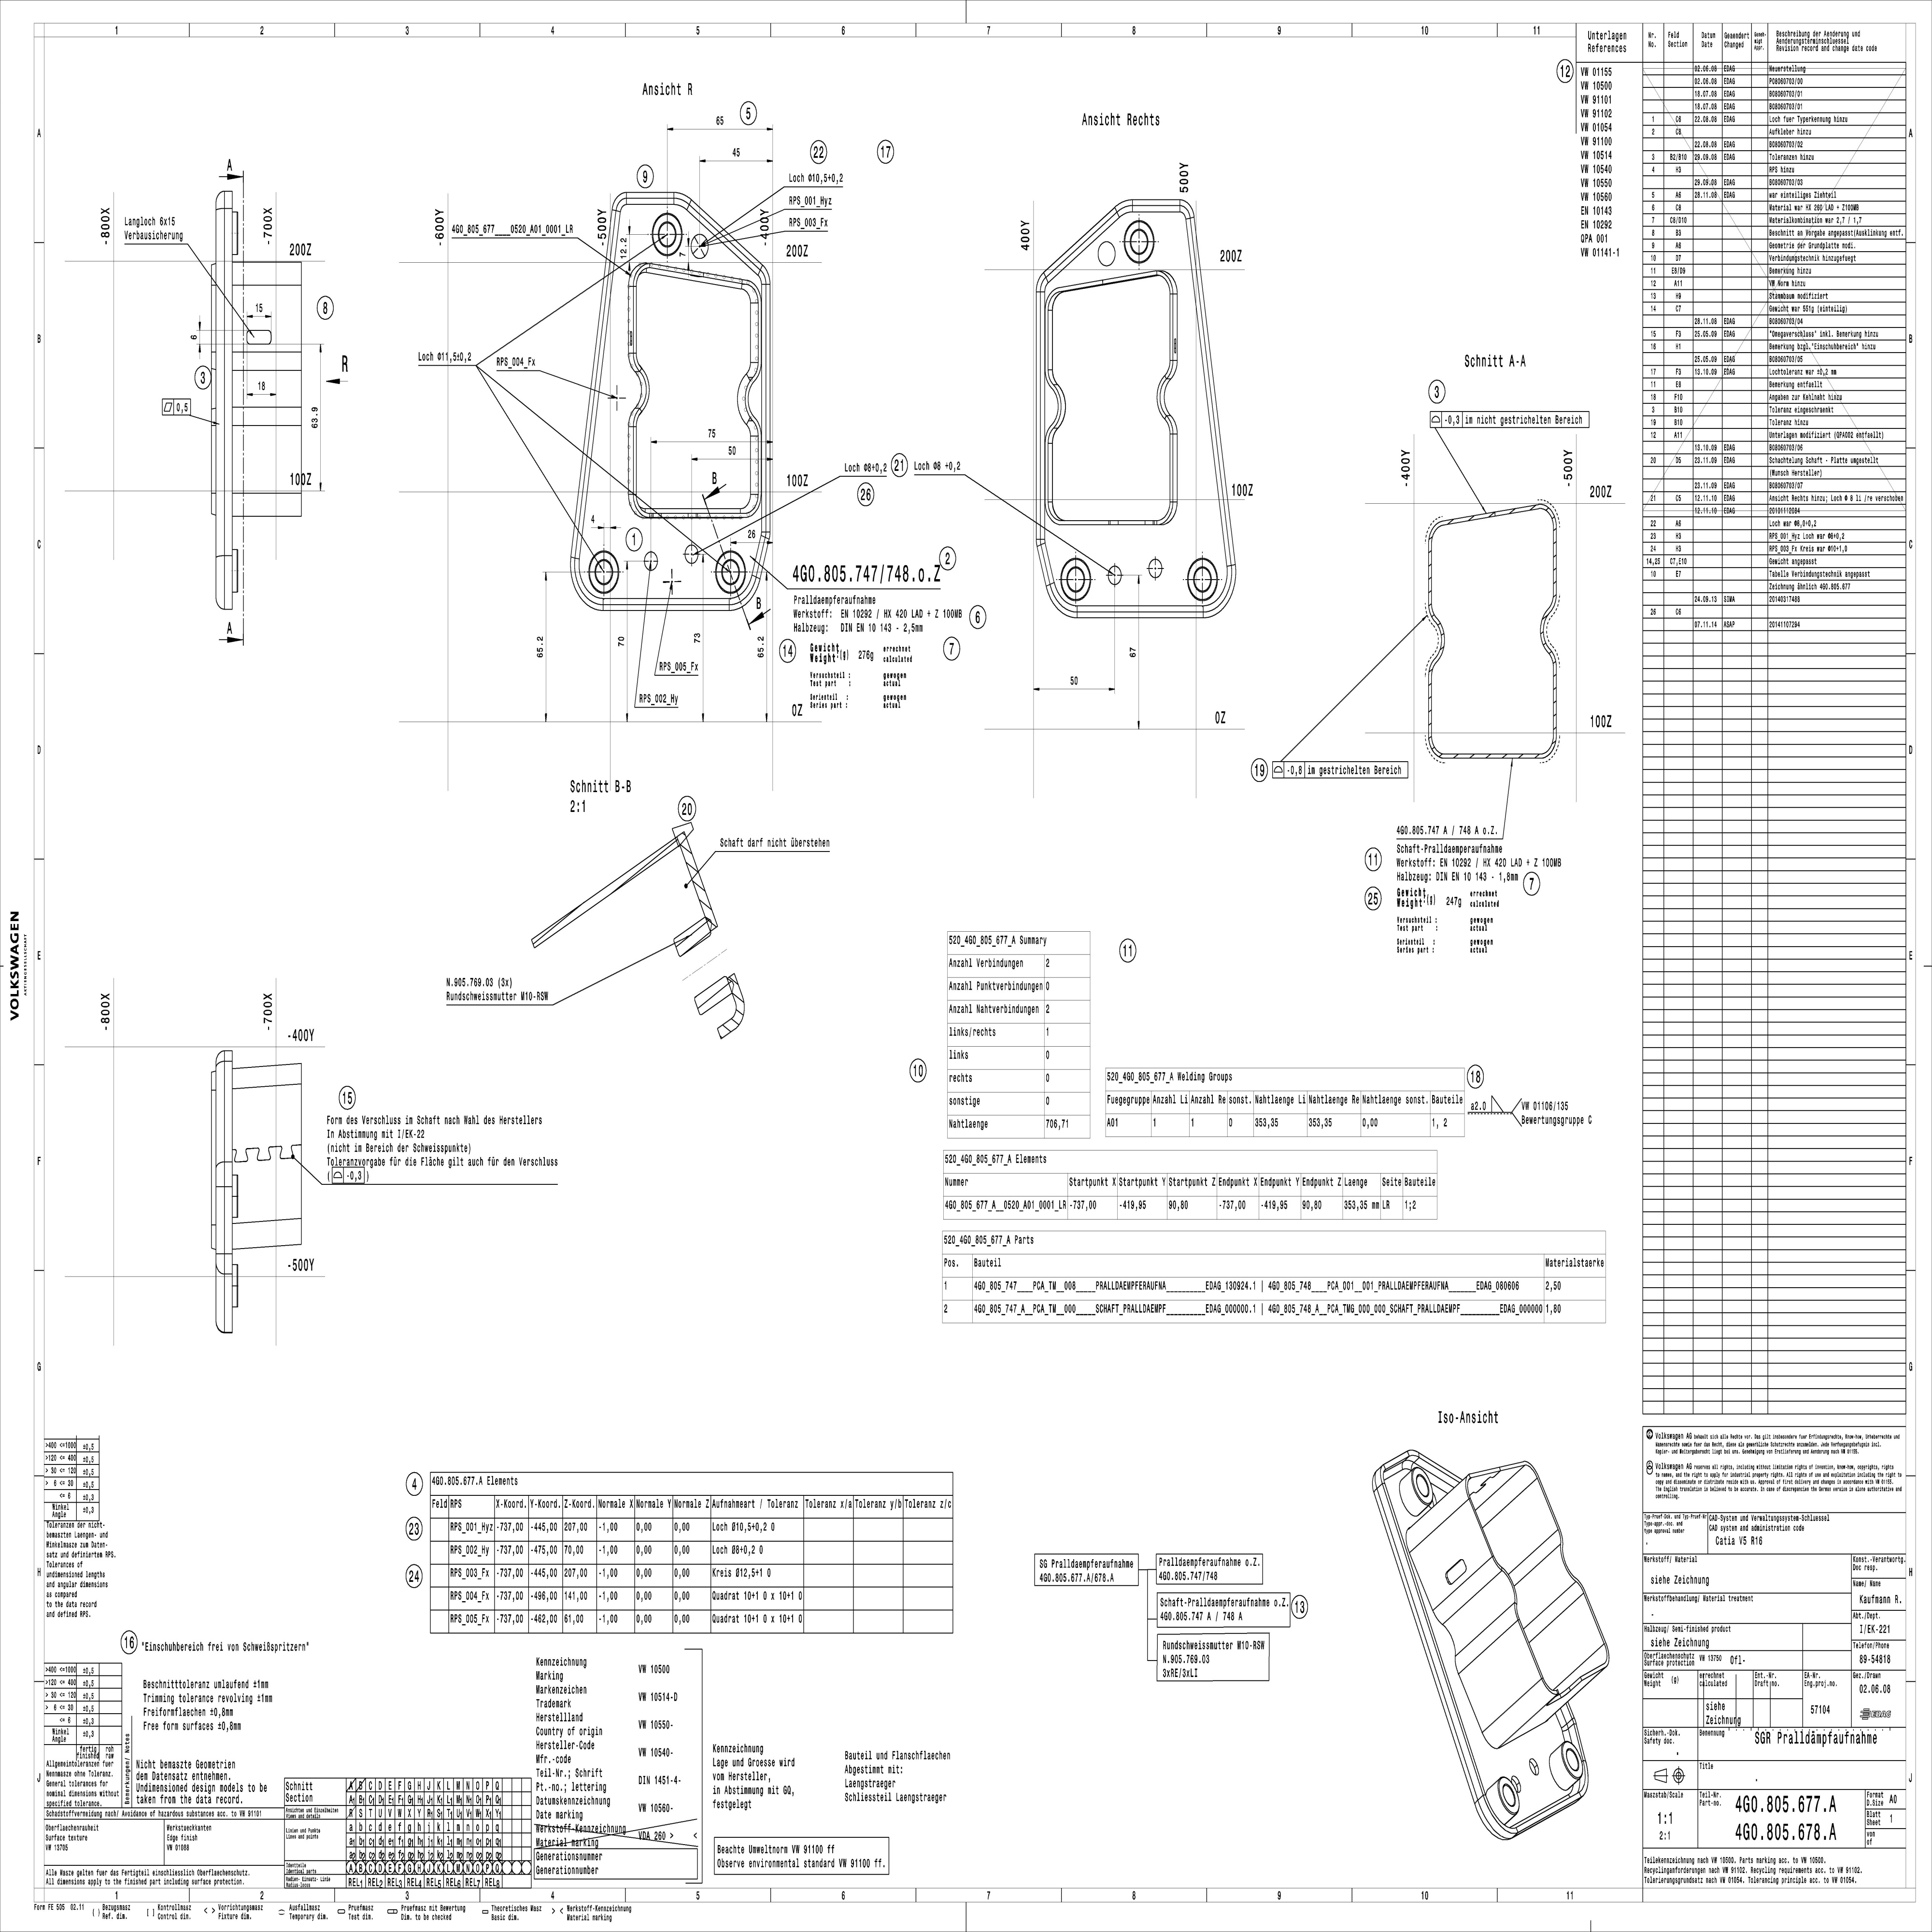InnerContour: (1438, 1555, 1474, 1587), (244, 327, 274, 347), (688, 232, 709, 258), (1097, 241, 1116, 267), (1104, 564, 1125, 587), (1145, 557, 1164, 580), (1523, 1755, 1543, 1778), (683, 541, 699, 566), (642, 550, 660, 571), (1509, 1775, 1523, 1794)
ThroughHole: (1120, 218, 1157, 264), (713, 548, 748, 596), (649, 211, 685, 257), (587, 548, 621, 596), (1185, 556, 1221, 600), (1060, 557, 1093, 602)
ThroughHoleExternal: (230, 209, 241, 257), (230, 547, 239, 594), (232, 1173, 241, 1219), (234, 1261, 241, 1307)
